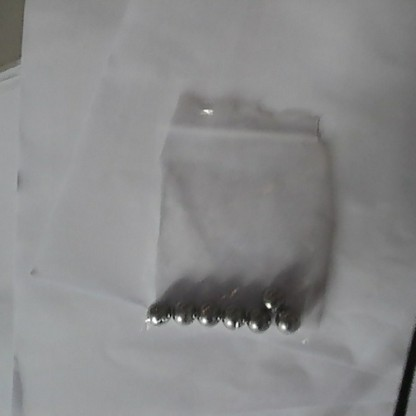ironball: (169, 294, 196, 328), (218, 301, 247, 330), (274, 305, 301, 334), (246, 305, 273, 333), (195, 299, 220, 329), (258, 284, 284, 310), (142, 298, 165, 326)
